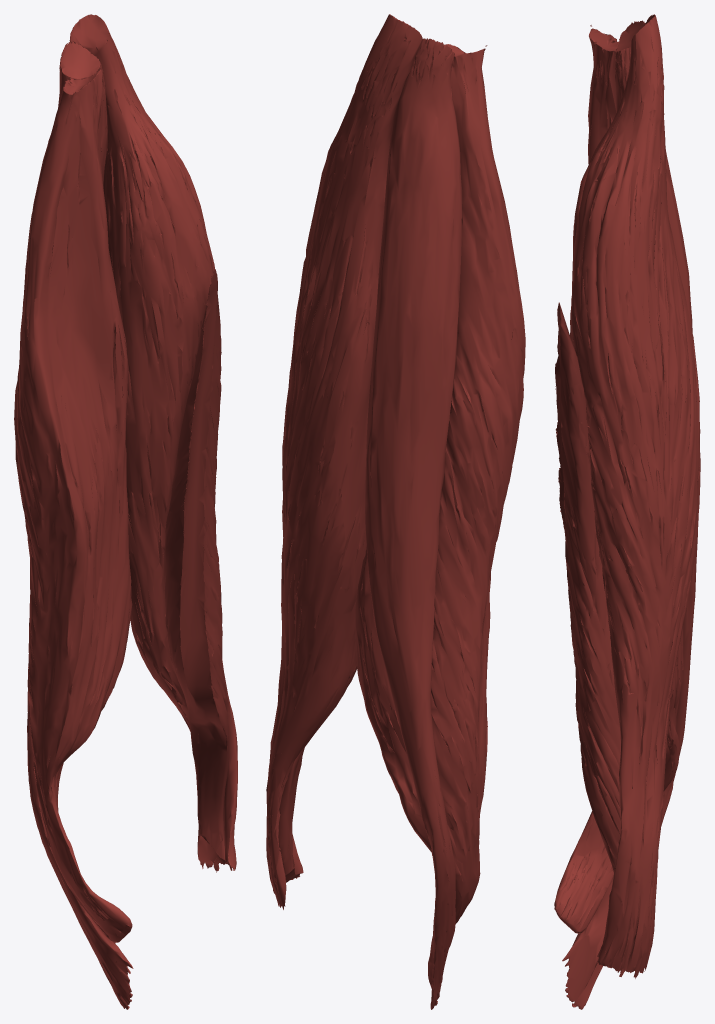
File: explorar-hamstrings.glb
The picture shows the model from 3 angles, left to right: view 1: azimuth 30°, elevation 25°; view 2: azimuth 150°, elevation 25°; view 3: azimuth 270°, elevation 25°; orthographic projection. The views are drawn at different scales.
Parts seen in each view (by area): view 1: hamstrings__semimembranoso, hamstrings__biceps_femoral_cabeza_larga, hamstrings__base, hamstrings__semitendinoso; view 2: hamstrings__biceps_femoral_cabeza_larga, hamstrings__semitendinoso, hamstrings__semimembranoso, hamstrings__base; view 3: hamstrings__biceps_femoral_cabeza_larga, hamstrings__base, hamstrings__semimembranoso, hamstrings__semitendinoso.
Part boxes in pixels (box(x1,y1,x2,y2)): hamstrings__semimembranoso: box(14, 68, 132, 942); hamstrings__biceps_femoral_cabeza_larga: box(69, 14, 237, 872); hamstrings__base: box(163, 269, 228, 859); hamstrings__semitendinoso: box(27, 41, 133, 1009); hamstrings__biceps_femoral_cabeza_larga: box(266, 14, 422, 909); hamstrings__semitendinoso: box(365, 38, 462, 1009); hamstrings__semimembranoso: box(355, 44, 525, 923); hamstrings__base: box(278, 664, 357, 880); hamstrings__biceps_femoral_cabeza_larga: box(570, 14, 700, 978); hamstrings__base: box(555, 302, 651, 928); hamstrings__semimembranoso: box(554, 25, 683, 933); hamstrings__semitendinoso: box(562, 20, 697, 1009).
Size of the model in its own units: 0.1097 by 0.4535 by 0.0606.
